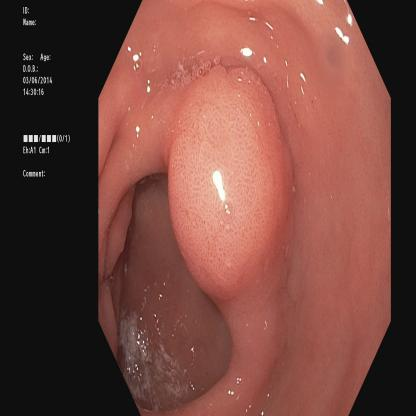Labels: (20, 3, 76, 186)
Polyps: (165, 69, 284, 273)
